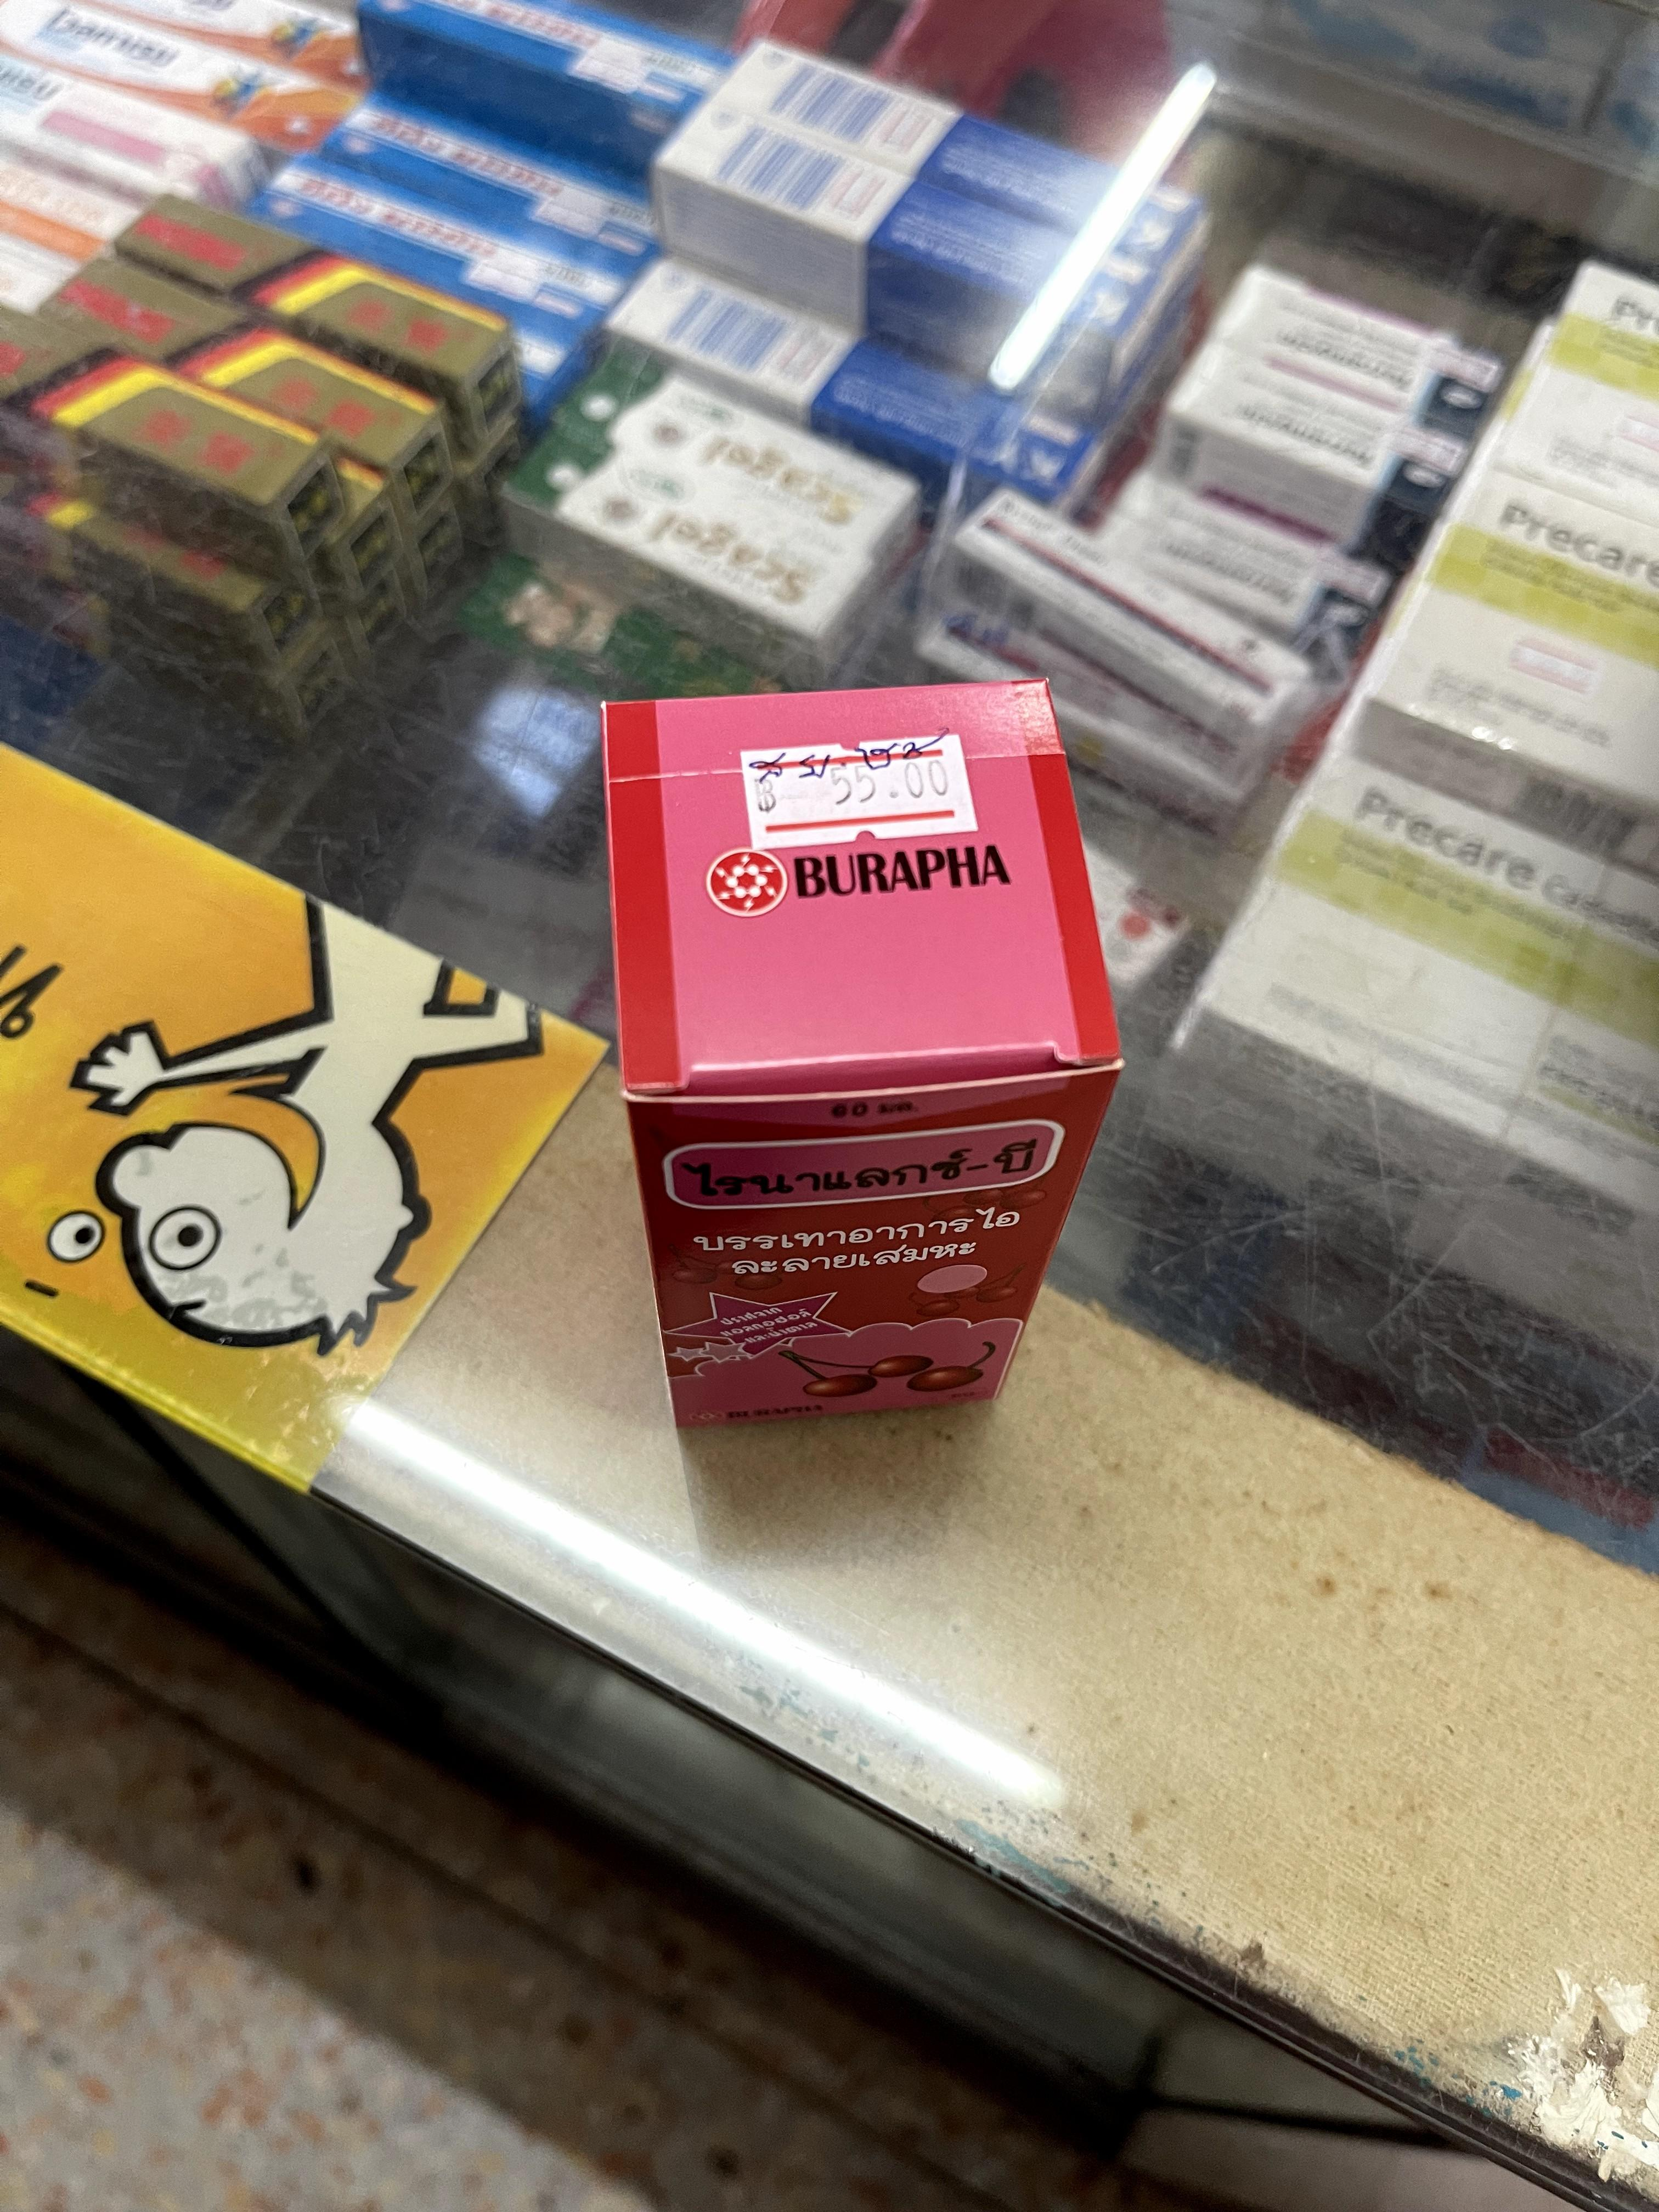Rhinalax-B: (608, 688, 1119, 1423)
